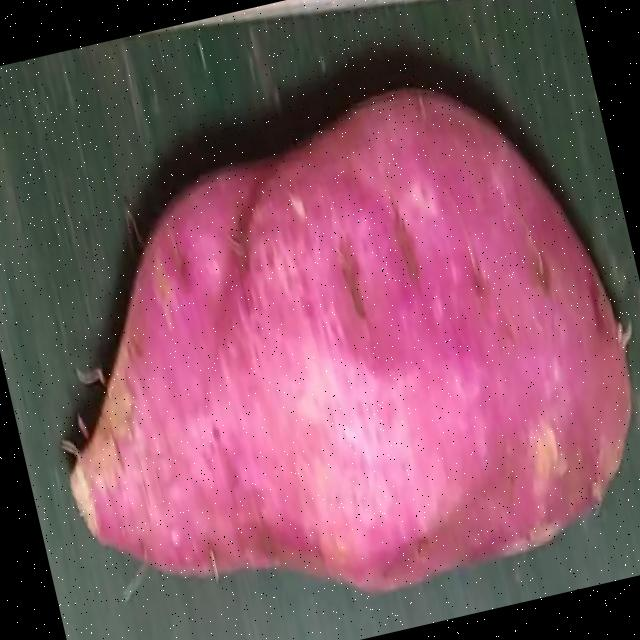Sweet Potato: (60, 81, 631, 584)
